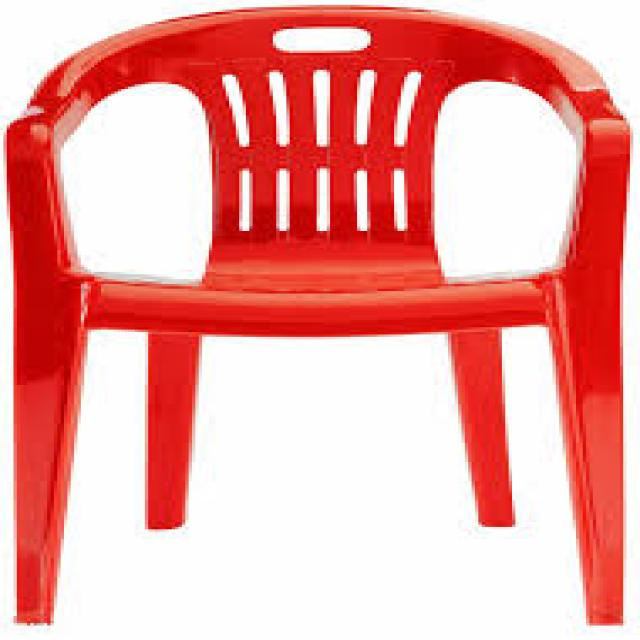chair: (10, 4, 628, 621)
